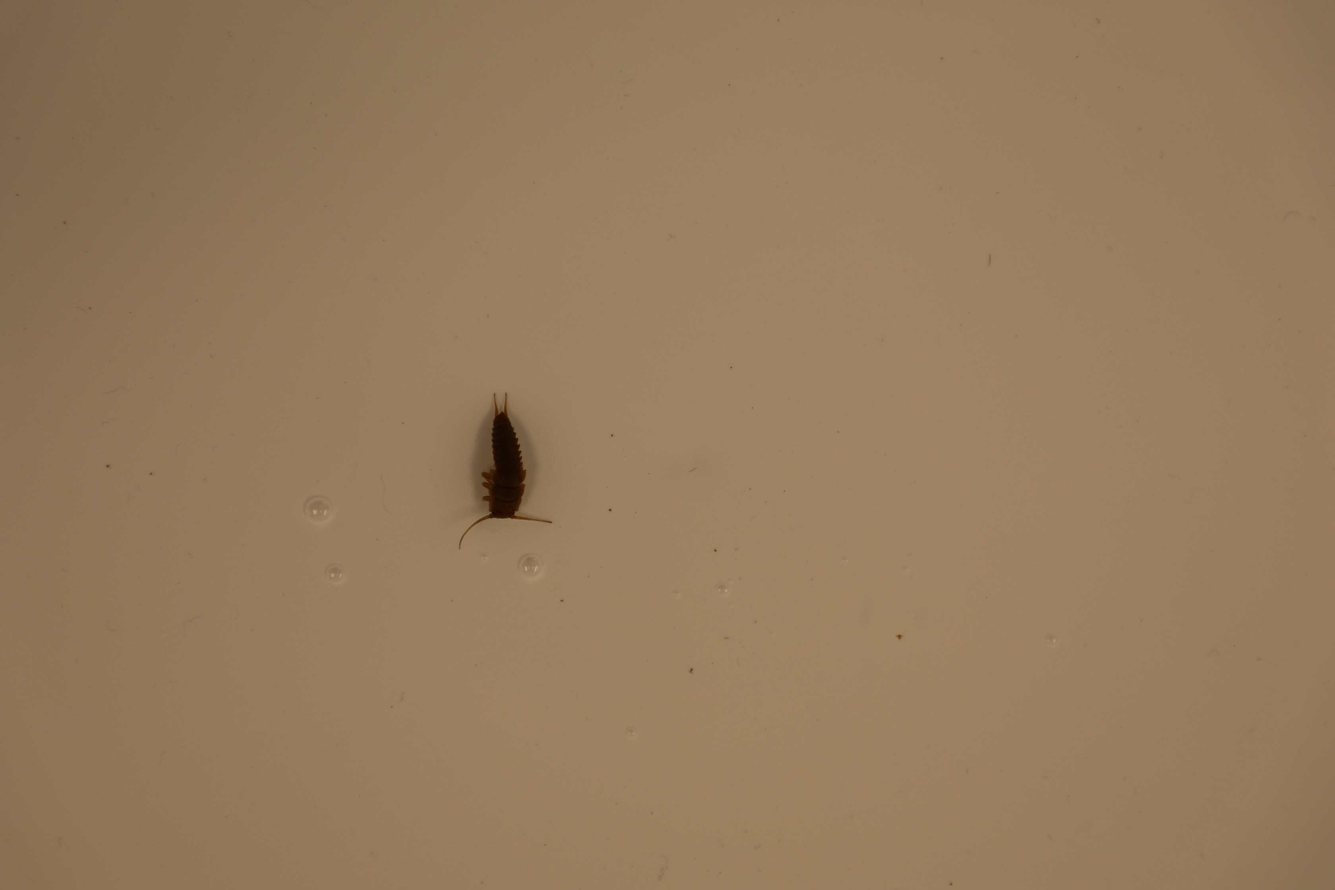Stonefly: (456, 391, 550, 553)
